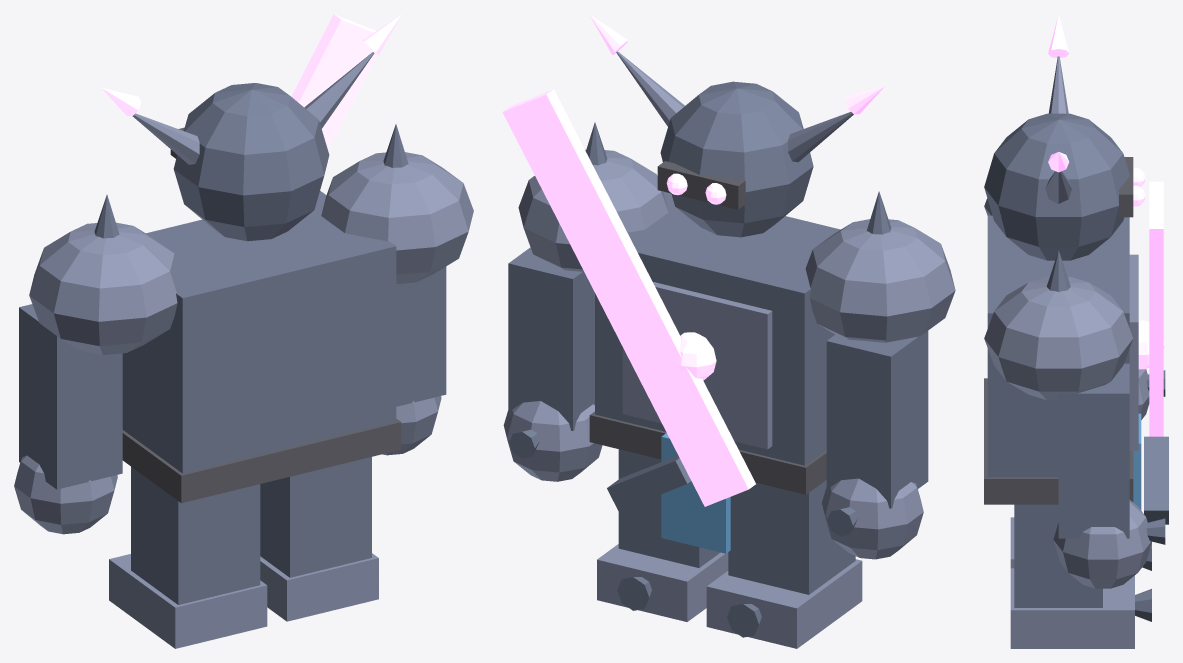
The model's file is pekka.glb.
3 renders of one model, left to right at view 1: azimuth 30°, elevation 25°; view 2: azimuth 150°, elevation 25°; view 3: azimuth 270°, elevation 25°, orthographic. The views are drawn at different scales.
Parts seen in each view (by area): view 1: pekka; view 2: pekka; view 3: pekka.
Boxes of the visible parts, left/top/right/bottom form: pekka: left=14, top=14, right=473, bottom=648; pekka: left=502, top=14, right=955, bottom=648; pekka: left=984, top=14, right=1168, bottom=648.
Bounding box in the file's own units: 2.56 × 3.23 × 1.04.
